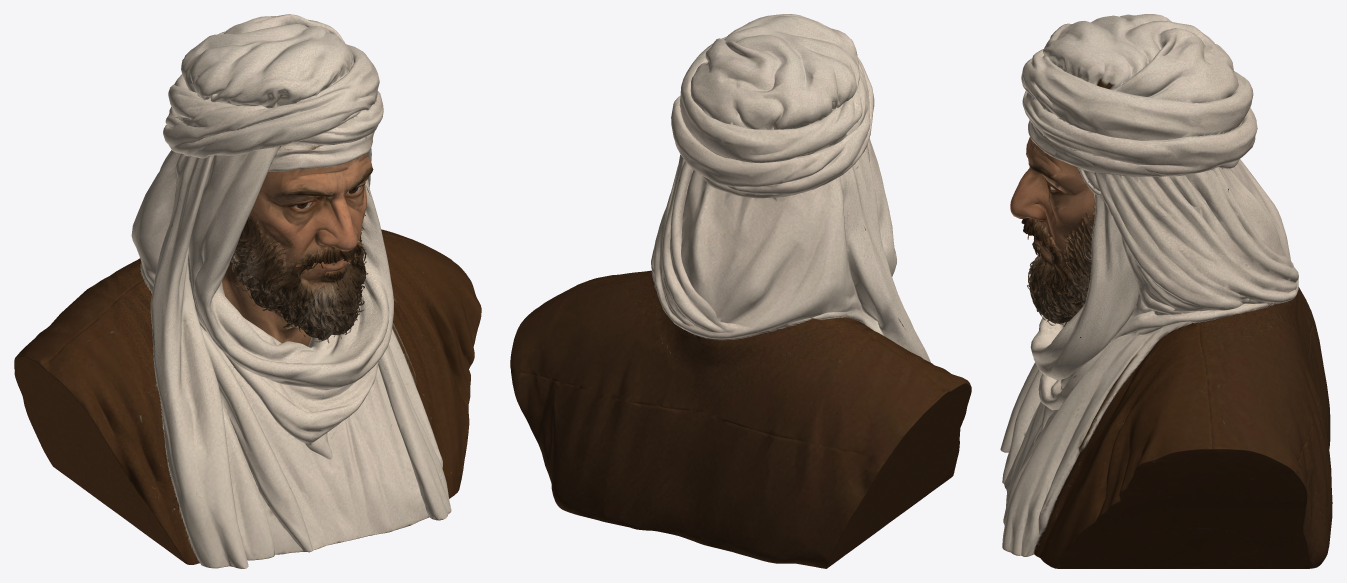
The model's file is mutanabbi-mouth.glb.
3 renders of one model, left to right at view 1: azimuth 30°, elevation 25°; view 2: azimuth 150°, elevation 25°; view 3: azimuth 270°, elevation 25°, orthographic. The views are drawn at different scales.
Visible parts, largest first — view 1: character; view 2: character; view 3: character.
Part boxes in pixels (x1,y1,x2,y2): character: (14, 14, 481, 568); character: (510, 14, 971, 568); character: (1000, 14, 1332, 568).
Bounding box in the file's own units: 1.8 × 1.9 × 1.21.
Materials: 1 (1 with a texture image).
